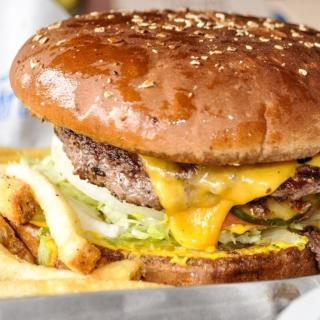Hamburger: (8, 6, 320, 288)
